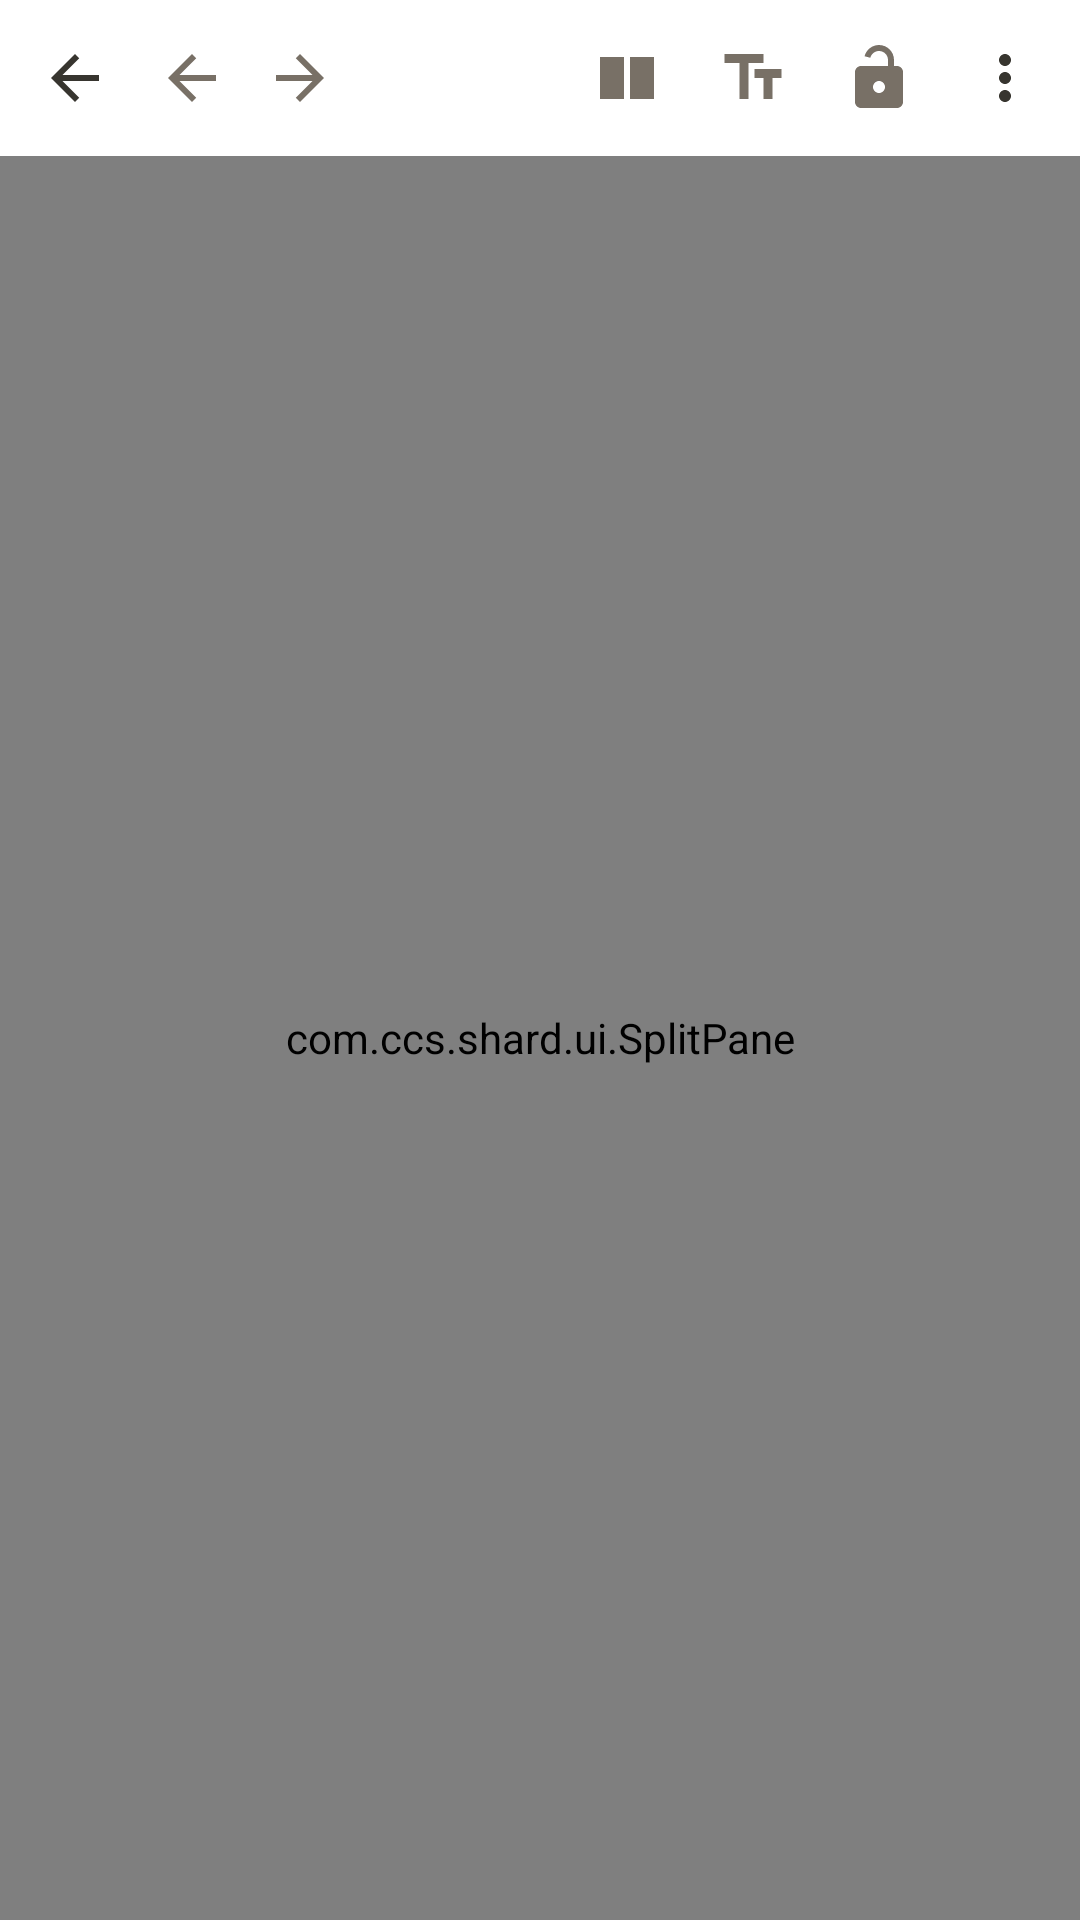

Where icons sit on this 1080w x 1920h app screen, as Rect(x1, y1, x2, y2):
Back: Rect(51, 54, 99, 102)
Lock editing: Rect(855, 45, 903, 108)
Next note: Rect(276, 54, 324, 102)
Note actions: Rect(999, 54, 1011, 102)
Preview: Rect(600, 57, 654, 99)
Previous note: Rect(168, 54, 216, 102)
